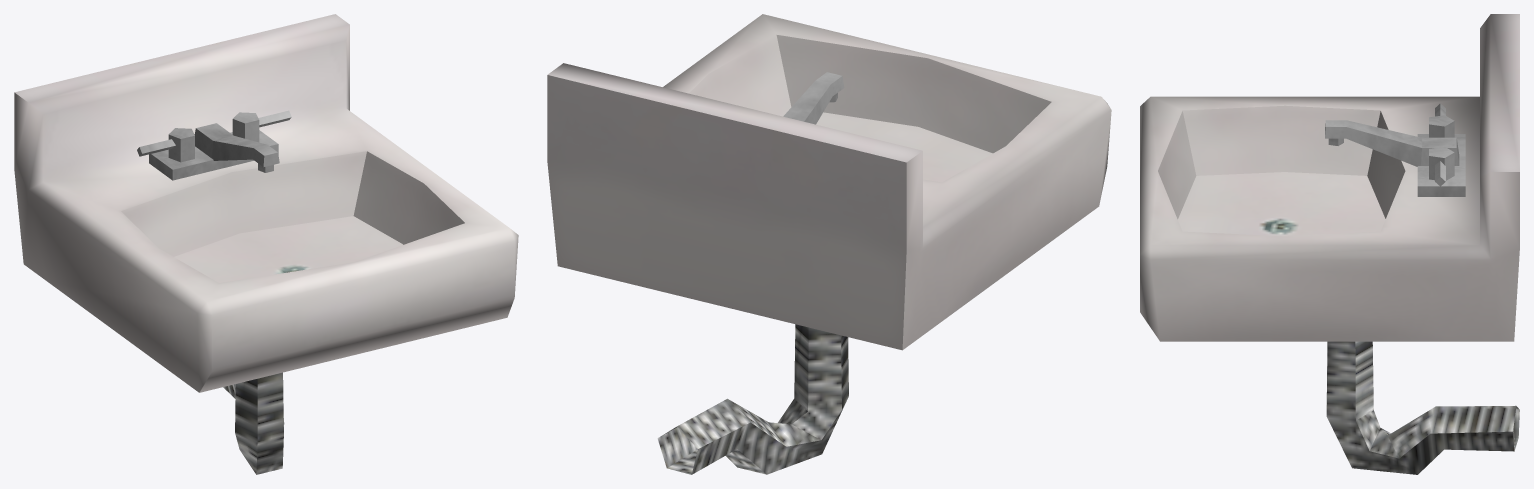
File: Washbasin.dae
The picture shows the model from 3 angles, left to right: view 1: azimuth 30°, elevation 25°; view 2: azimuth 150°, elevation 25°; view 3: azimuth 270°, elevation 25°; orthographic projection. The views are drawn at different scales.
Visible parts, largest first — view 1: Washbasin; view 2: Washbasin; view 3: Washbasin.
Boxes of the visible parts, bbox=[...] form: Washbasin: bbox=[14, 14, 518, 474]; Washbasin: bbox=[547, 14, 1111, 474]; Washbasin: bbox=[1140, 14, 1519, 474].
Bounding box in the file's own units: 0.5787 × 0.5882 × 0.6206.
1 material, 1 textured.
